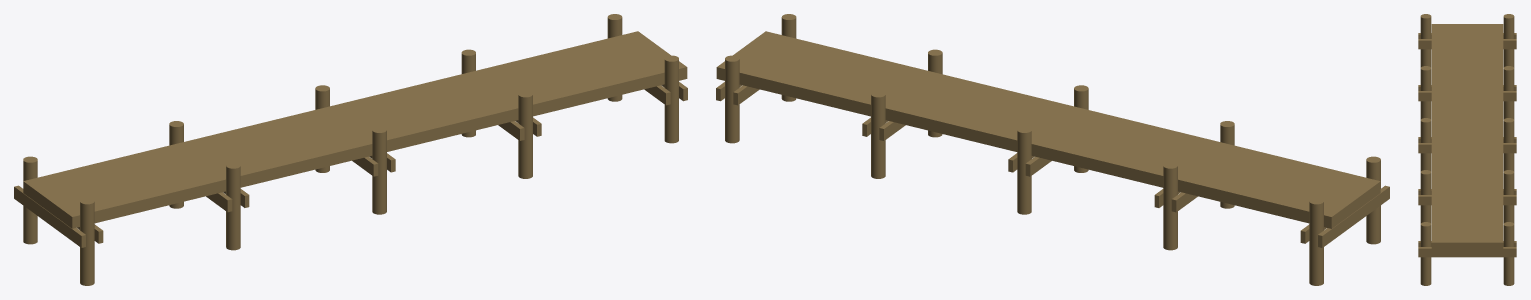
The model's file is dock.fbx.
The picture shows the model from 3 angles, left to right: view 1: azimuth 30°, elevation 25°; view 2: azimuth 150°, elevation 25°; view 3: azimuth 270°, elevation 25°; orthographic projection. The views are drawn at different scales.
Parts seen in each view (by area): view 1: Cube, Cylinder.003, Cylinder.001, Cylinder.007, Cylinder.009, Cylinder.005, Cube.002, Cylinder, Cylinder.008, Cylinder.006; view 2: Cube, Cylinder.002, Cylinder, Cylinder.004, Cylinder.008, Cylinder.006, Cube.002, Cylinder.001, Cylinder.009; view 3: Cube, Cube.009, Cylinder.008, Cylinder.009, Cylinder, Cylinder.001, Cylinder.002, Cylinder.003, Cylinder.004, Cylinder.005, Cylinder.006, Cylinder.007 (+4 smaller).
Boxes of the visible parts, x1,y1,x2,y2 form: Cube: (23, 31, 687, 228); Cylinder.003: (226, 162, 240, 250); Cylinder.001: (80, 198, 94, 285); Cylinder.007: (518, 91, 532, 178); Cylinder.009: (664, 55, 678, 143); Cylinder.005: (372, 127, 386, 214); Cube.002: (14, 185, 85, 247); Cylinder: (23, 156, 37, 244); Cylinder.008: (607, 14, 622, 101); Cylinder.006: (461, 49, 475, 137); Cube: (716, 31, 1380, 228); Cylinder.002: (1163, 162, 1177, 250); Cylinder: (1309, 198, 1323, 285); Cylinder.004: (1017, 127, 1031, 214); Cylinder.008: (725, 55, 739, 143); Cylinder.006: (871, 91, 885, 178); Cube.002: (1318, 185, 1389, 247); Cylinder.001: (1366, 156, 1380, 244); Cylinder.009: (781, 14, 796, 101); Cube: (1431, 24, 1503, 251); Cube.009: (1418, 247, 1516, 257); Cylinder.008: (1503, 222, 1514, 285); Cylinder.009: (1420, 222, 1431, 285); Cylinder: (1503, 14, 1514, 67); Cylinder.001: (1420, 14, 1431, 67); Cylinder.002: (1503, 66, 1514, 119); Cylinder.003: (1420, 66, 1431, 119); Cylinder.004: (1503, 118, 1514, 171); Cylinder.005: (1420, 118, 1431, 171); Cylinder.006: (1503, 170, 1514, 223); Cylinder.007: (1420, 170, 1431, 223).
Size of the model in its own units: 241 by 30.54 by 45.68.
